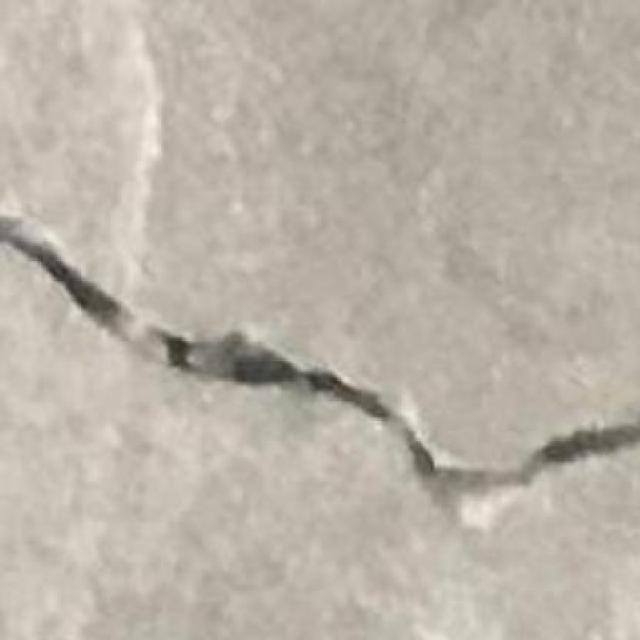crack: (6, 192, 640, 542)
